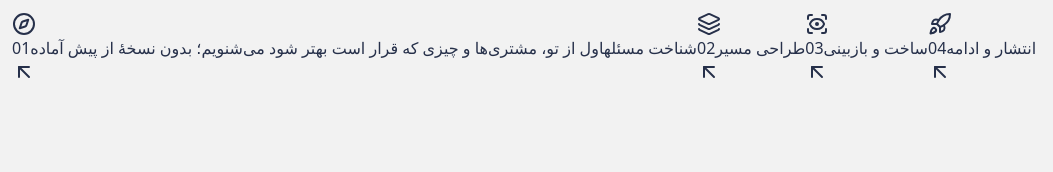
Scenario: Coorda adaptation invariants › adapts expanding native cards to collaboration steps, with real disclosure controls
Click the button "03ساخت و بازبینی" at (867, 48), box [805,12,928,84]
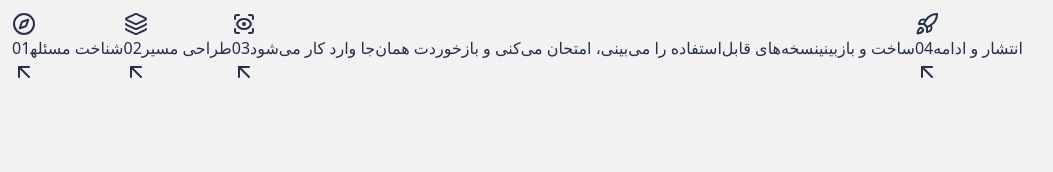
Check: the button "01شناخت مسئله" is collapsed, box [12,12,124,84]
Check: the button that starts with "ساخت و بازبینی" is expanded, box [232,12,915,84]
